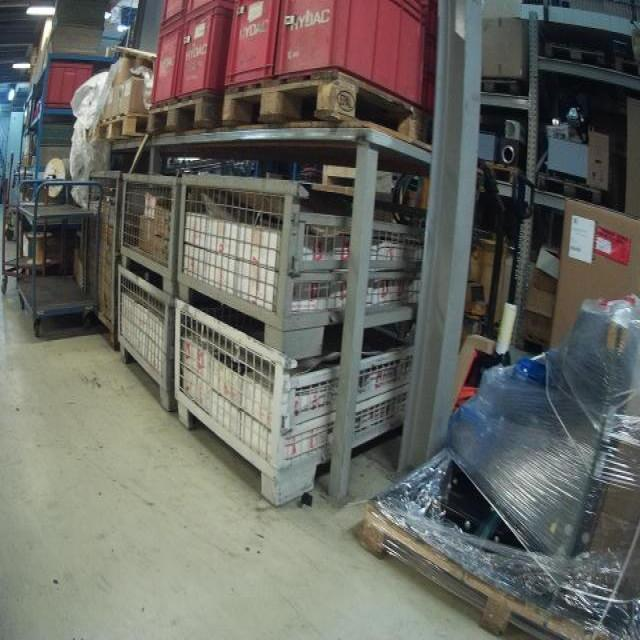pallet: (355, 497, 614, 637), (219, 69, 435, 154), (145, 84, 220, 136), (536, 169, 606, 206), (545, 38, 609, 71), (93, 112, 149, 139), (479, 157, 520, 187), (516, 330, 549, 358), (613, 55, 640, 79)
pallet_truck: (453, 175, 539, 410)
small_load_carrier: (274, 1, 431, 118), (177, 5, 244, 105), (218, 0, 287, 95), (148, 20, 193, 114), (45, 59, 97, 114), (155, 0, 193, 32), (183, 0, 233, 23)
stillage: (169, 300, 431, 503), (177, 173, 446, 351), (113, 265, 188, 416), (83, 160, 127, 347), (122, 166, 184, 292)
